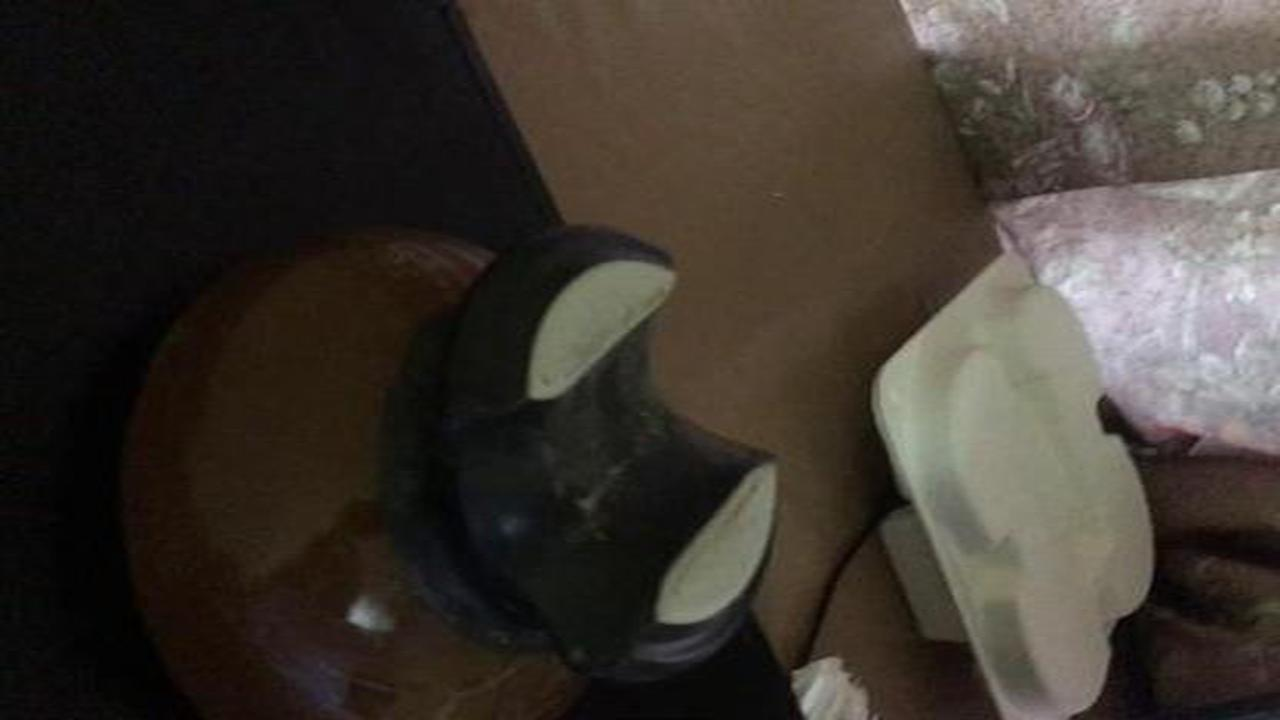insulator_pin: (105, 213, 807, 710)
